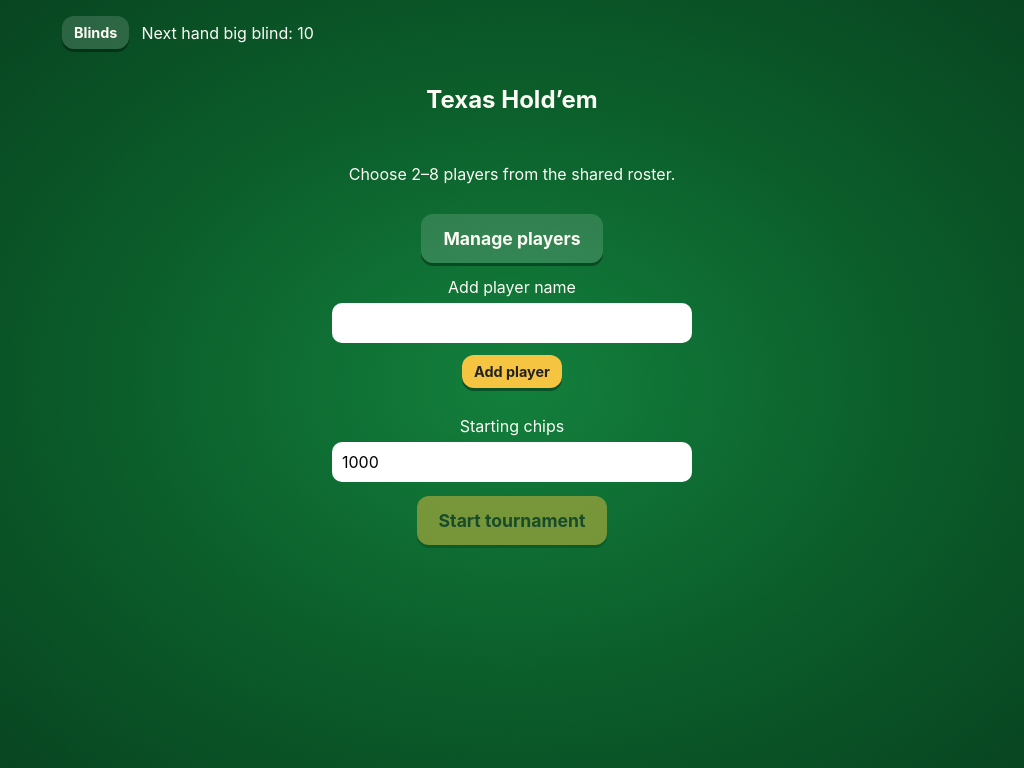
Test case: PokerApp › adds and renames players in the shared roster without replacing their seat identity
Click the button "Manage players". click: (512, 238)
box: [422,214,603,263]
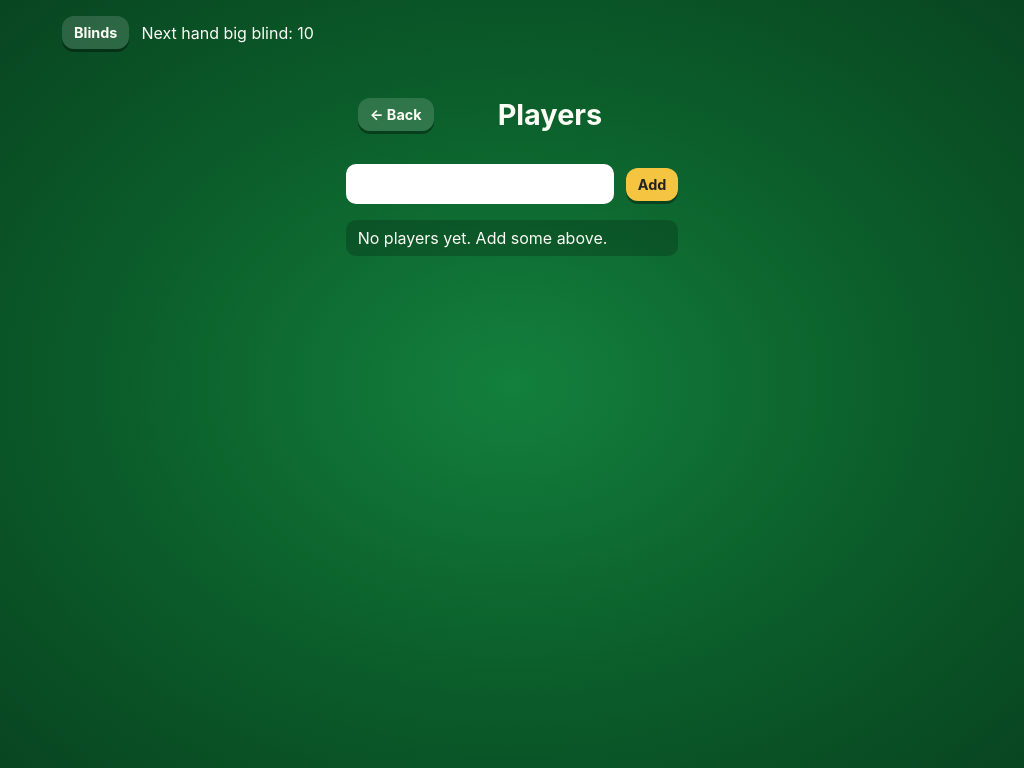
Type "Alice" into the field named "New player name". click: (480, 184)
box: [346,164,614,204]
Click the button "Add". click: (652, 184)
box: [626,168,678,200]
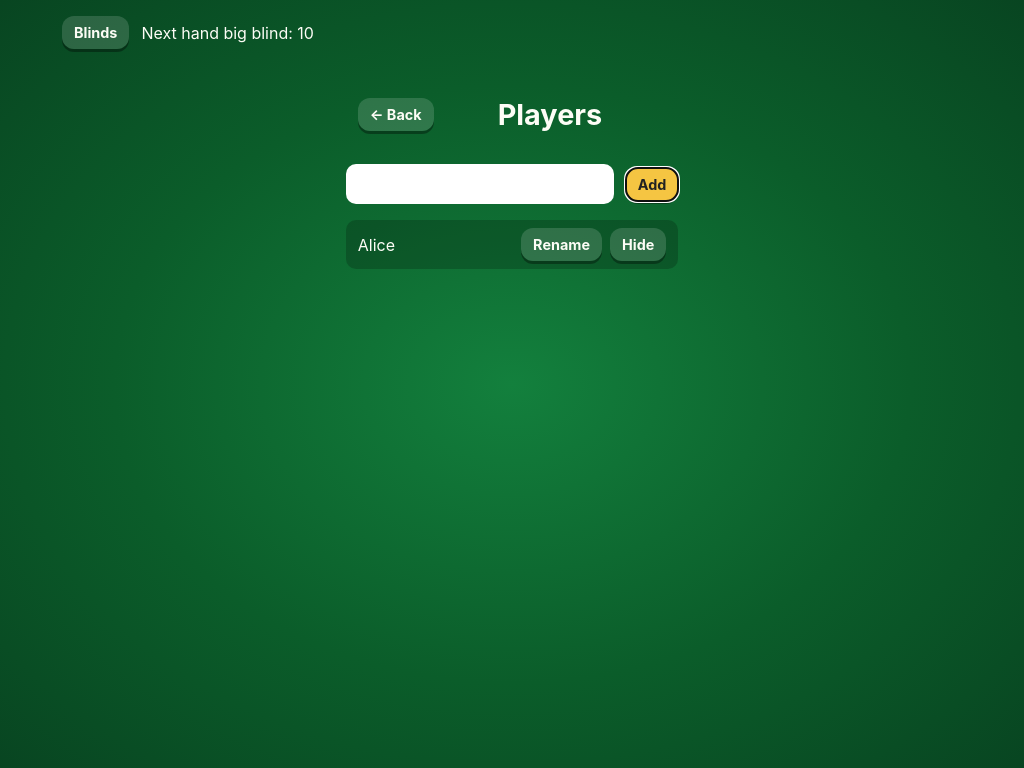
Click the button "Rename". click: (562, 244)
box: [521,228,602,261]
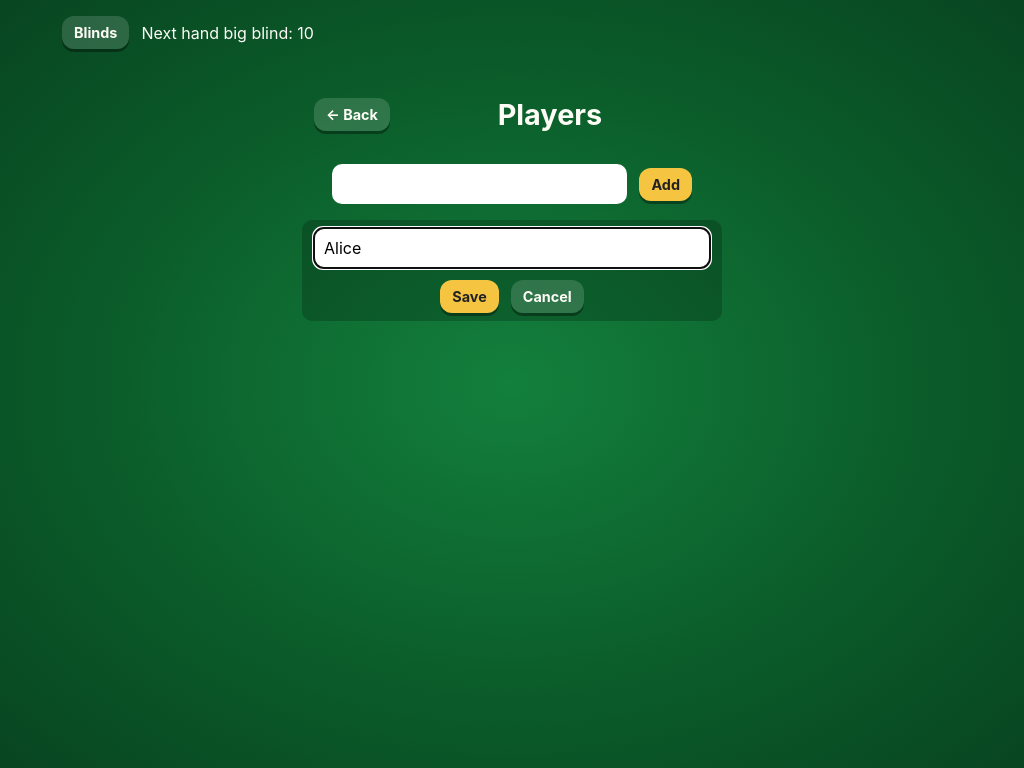
Replace the text in the field named "Rename Alice" with "Alicia". click: (512, 248)
box: [314,228,710,268]
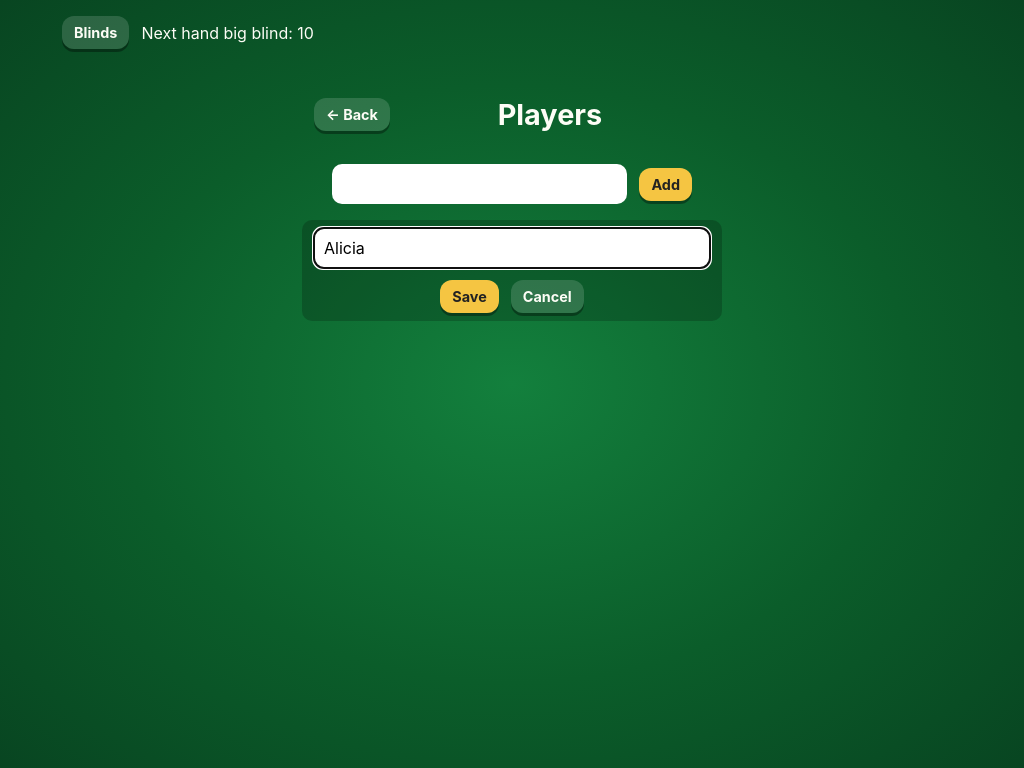
Click the button "Save". click: (470, 296)
box: [440,280,499,313]
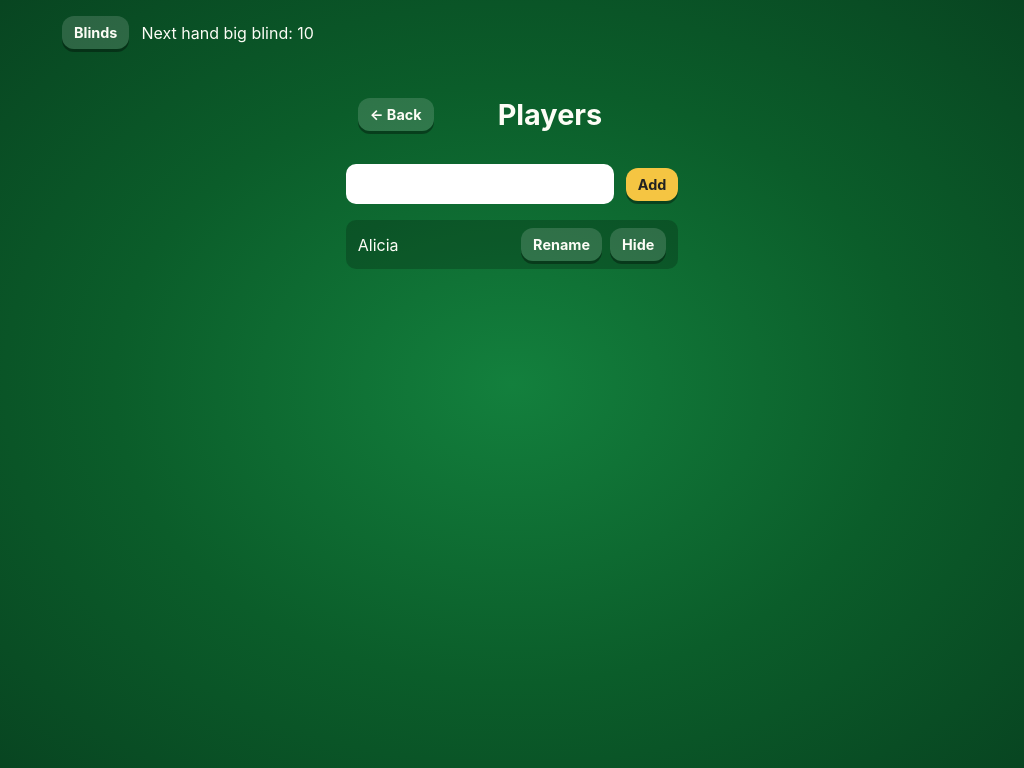
Click the button "← Back". click: (396, 114)
box: [358,98,434,131]
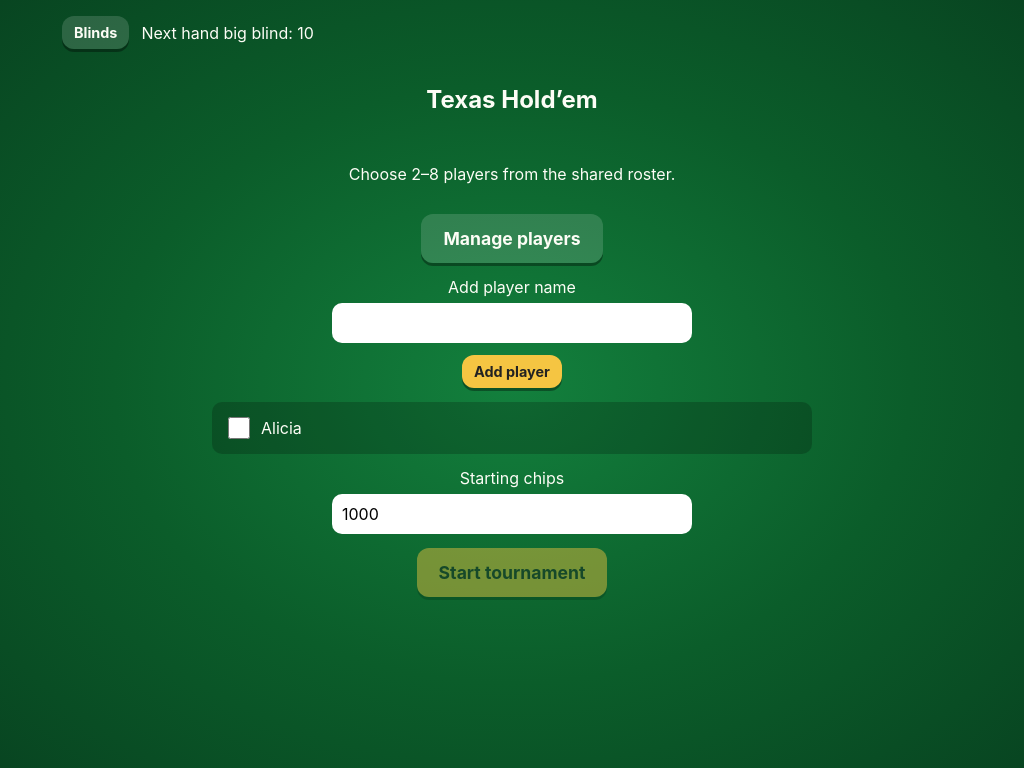
Result: the checkbox labelled "Alicia" is shown at [228,417,250,439]
